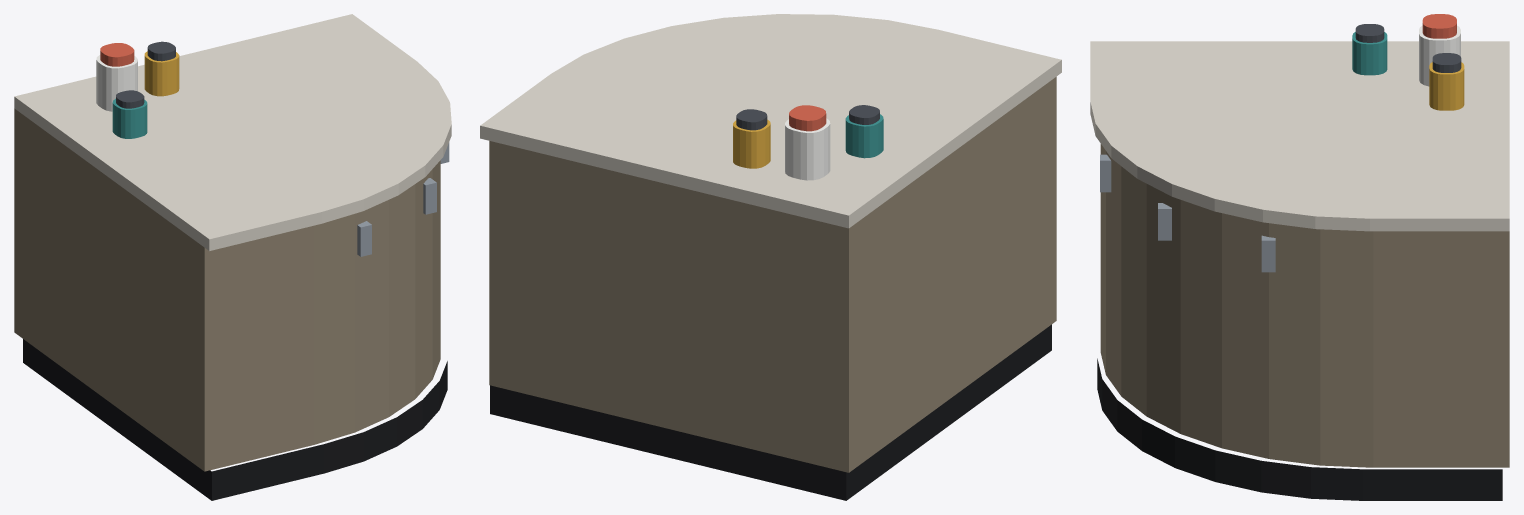
File: kitchen_corner_cabinet_round.glb
The picture shows the model from 3 angles, left to right: view 1: azimuth 30°, elevation 25°; view 2: azimuth 150°, elevation 25°; view 3: azimuth 270°, elevation 25°; orthographic projection. The views are drawn at different scales.
Visible parts, largest first — view 1: kitchen_corner_cabinet_round_Body; view 2: kitchen_corner_cabinet_round_Body; view 3: kitchen_corner_cabinet_round_Body.
Part boxes in pixels (x1=…): kitchen_corner_cabinet_round_Body: x1=14, y1=14, x2=451, y2=500; kitchen_corner_cabinet_round_Body: x1=480, y1=14, x2=1061, y2=500; kitchen_corner_cabinet_round_Body: x1=1090, y1=14, x2=1509, y2=500.
Size of the model in its own units: 1.2 by 1.08 by 1.2.
